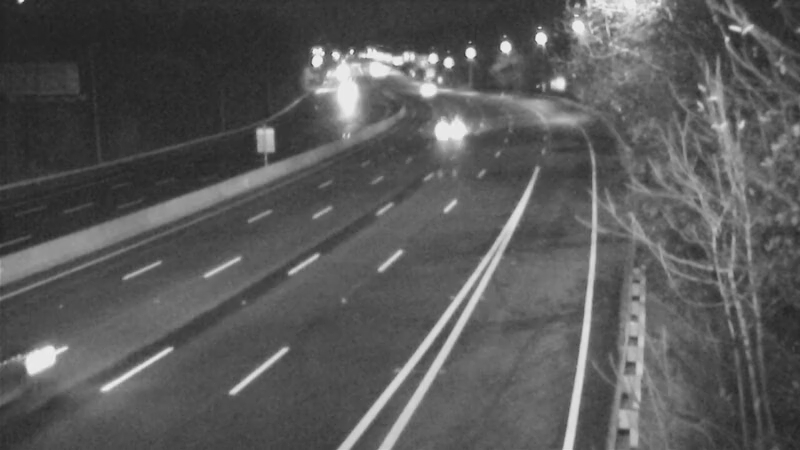vehicle: (1, 313, 97, 423), (401, 65, 451, 115), (423, 108, 473, 158), (319, 74, 369, 124)
